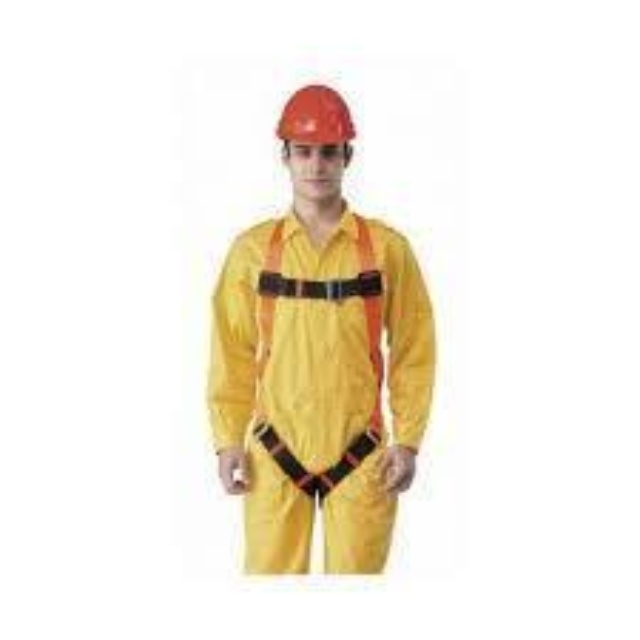Arnes_seguridad: (247, 210, 384, 501)
